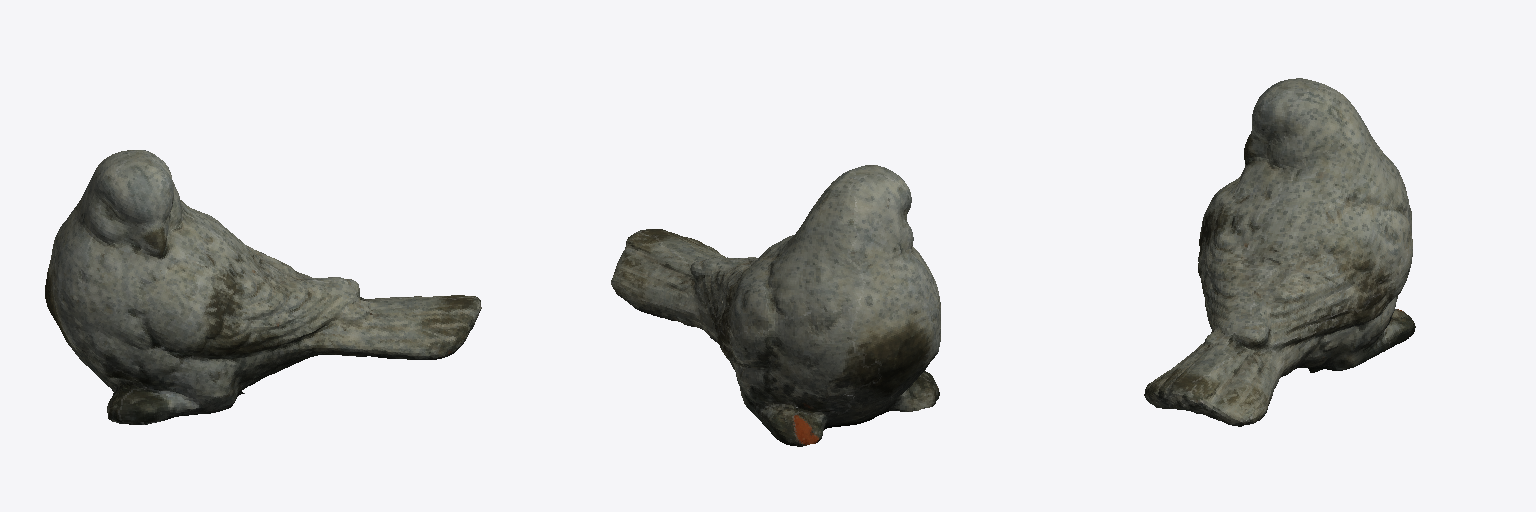
3 views of the same model, side by side, from view 1: azimuth 30°, elevation 25°; view 2: azimuth 150°, elevation 25°; view 3: azimuth 270°, elevation 25° (orthographic).
Visible parts, largest first — view 1: bird-retop_fixed.001; view 2: bird-retop_fixed.001; view 3: bird-retop_fixed.001.
Boxes of the visible parts, box(x1,y1,x2,y2) form: bird-retop_fixed.001: box(45, 150, 481, 424); bird-retop_fixed.001: box(611, 165, 940, 446); bird-retop_fixed.001: box(1144, 78, 1415, 426).
Size of the model in its own units: 11.93 by 7.47 by 7.73.
1 materials, 1 textured.